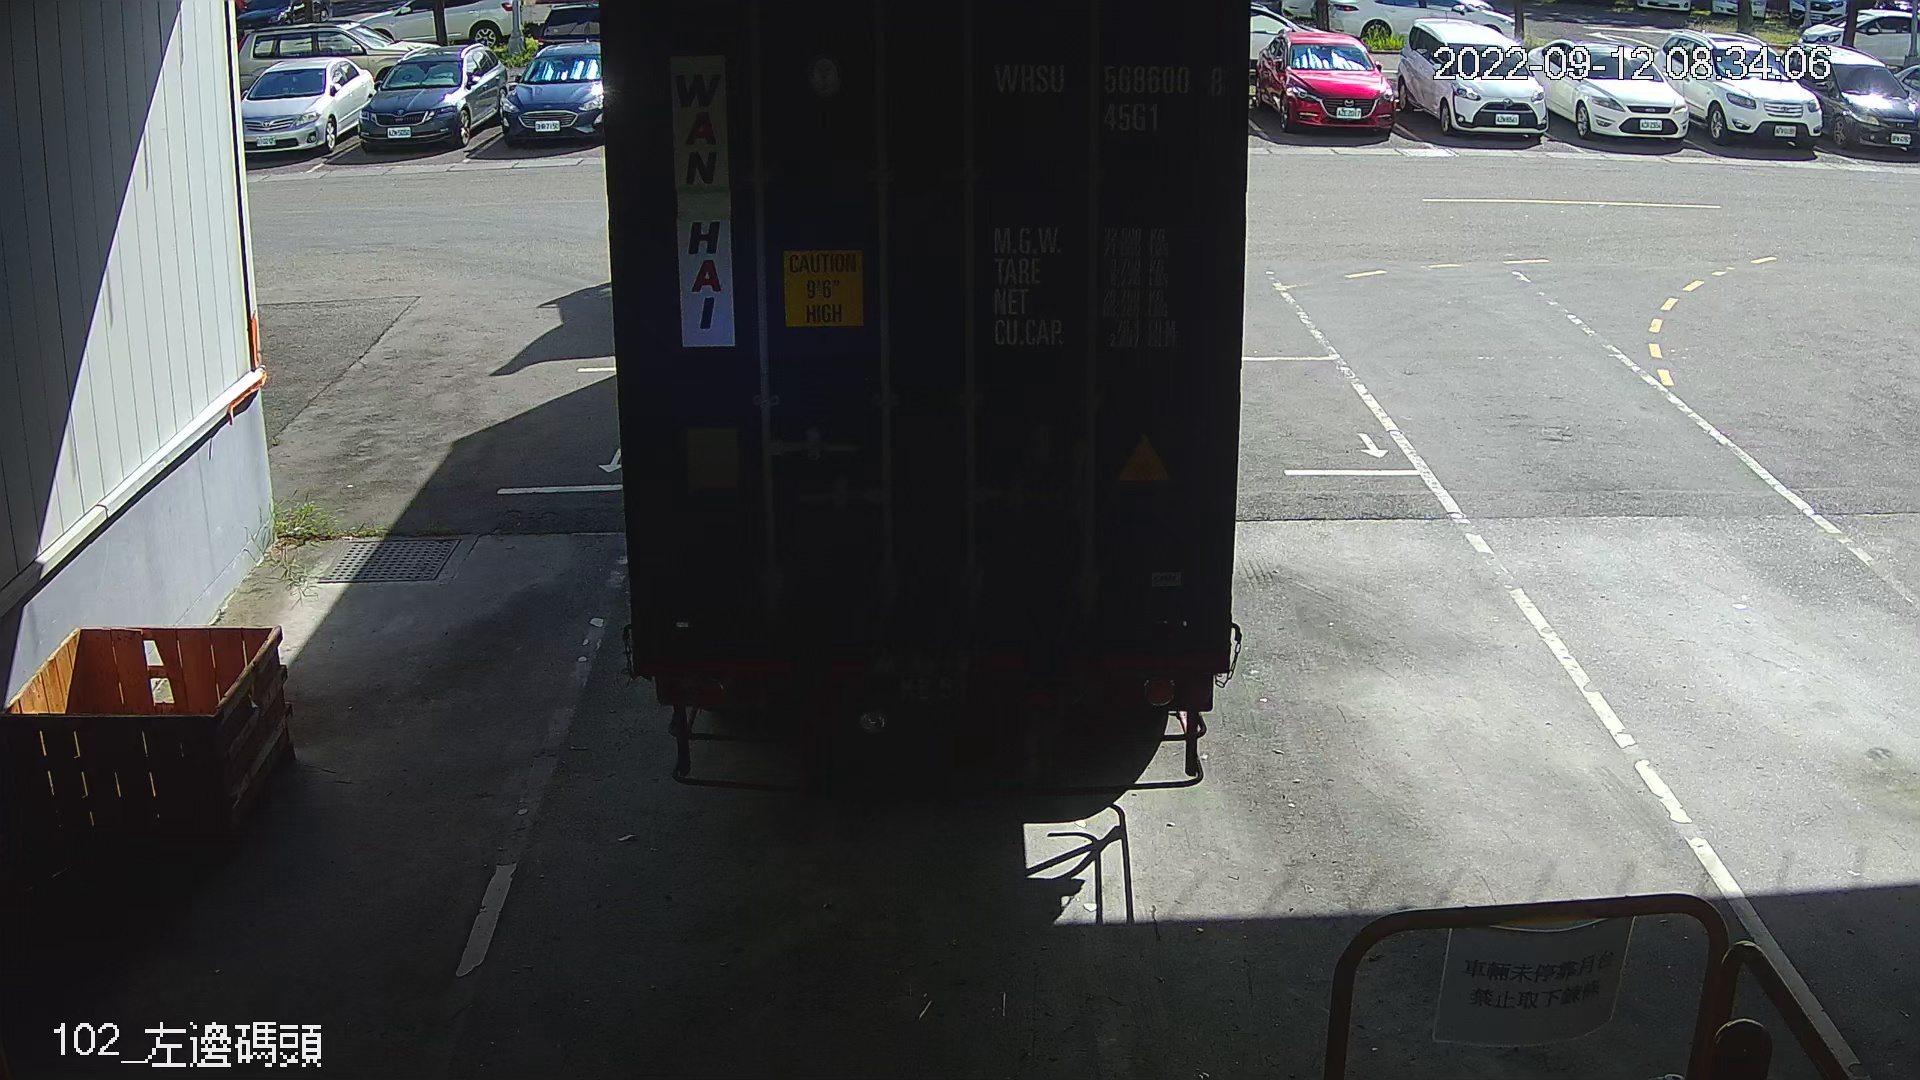container: (982, 49, 1236, 142)
